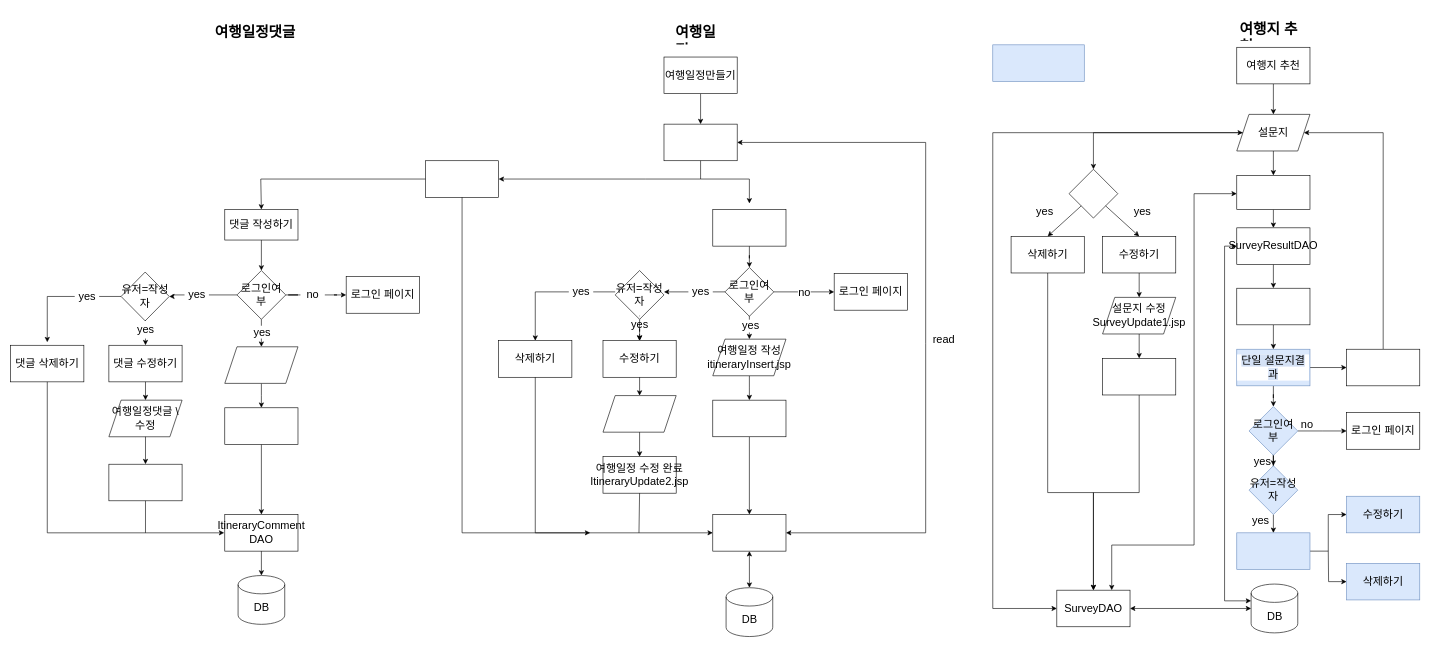
Image size: 1430x647. Some labels were removed from this diagram. The centre of each missing label's shape, as x and y in pixels:
"AI Server" belongs at [1038,62].
"ItineraryDAO" belongs at [749,532].
"결과저장" belongs at [1273,306].
"관리자 여부" belongs at [1093,193].
"다시하기" belongs at [1383,367].
"상세페이지" belongs at [462,178].
"설문지 수정 완료 SurveyUpdate.jsp" belongs at [1139,376].
"여행 일정 게시판" belongs at [700,142].
"여행 일정 등록" belongs at [749,418].
"여행일정 수정 itineraryUpdate1.jsp" belongs at [639,413].
"여행일정댓글 등록" belongs at [261,425].
"여행일정댓글 수정 완료" belongs at [145,482].
"여행일정댓글 작성" belongs at [261,364].
"유저 설문지결과 추천 리스트" belongs at [1273,550].
"작성하기" belongs at [749,227].
"제출" belongs at [1273,192].
